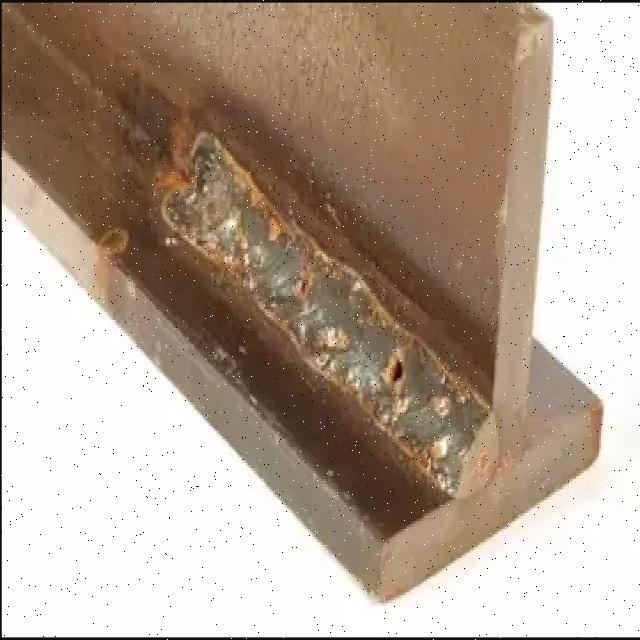Porosity: (387, 351, 406, 385), (296, 267, 314, 296)
